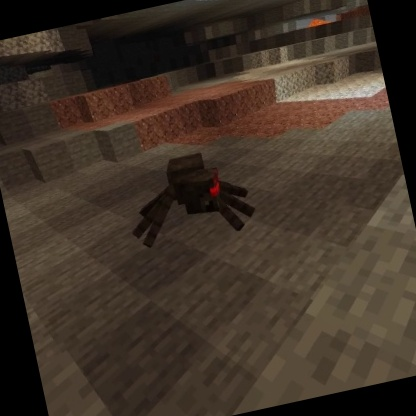spider: (114, 140, 261, 255)
